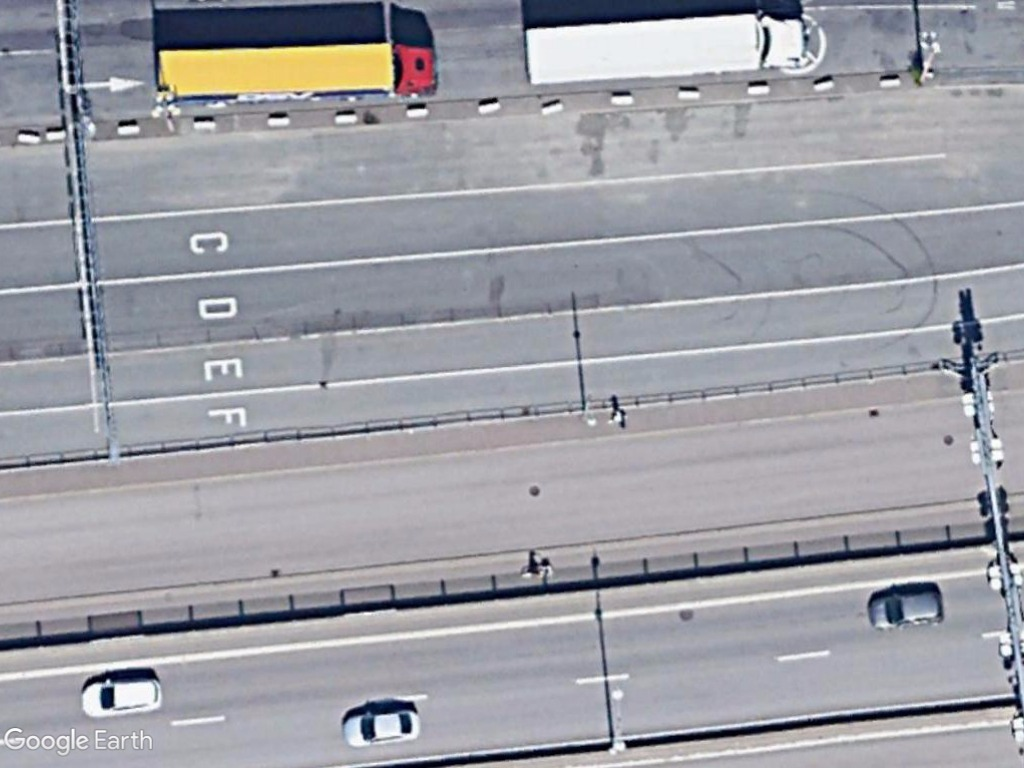car: (74, 670, 170, 725), (339, 702, 424, 753), (864, 583, 947, 633)
longvehicle: (516, 11, 814, 90), (150, 38, 441, 111)
